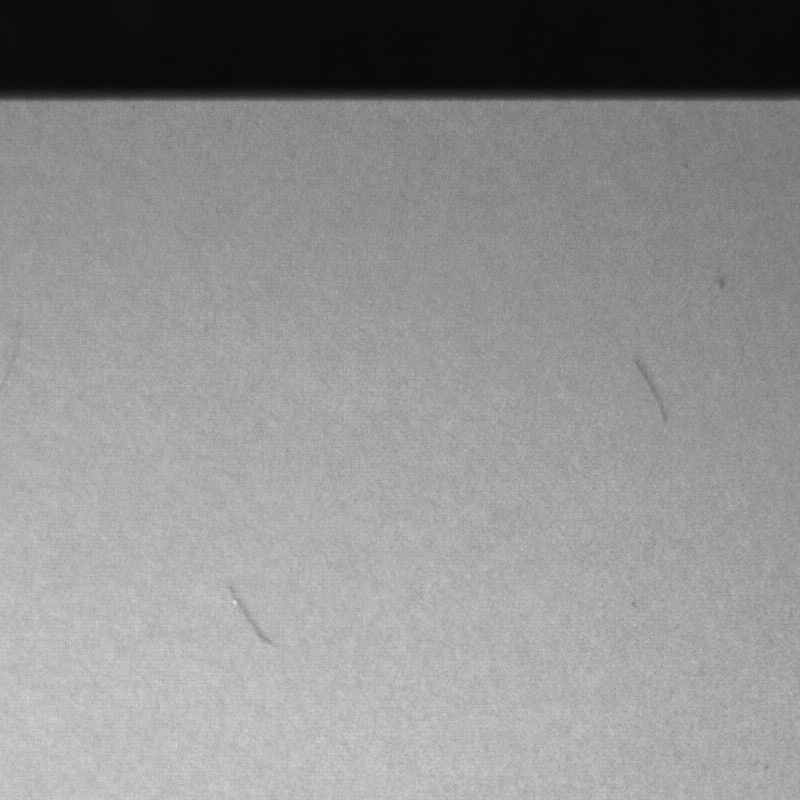defect: (225, 589, 278, 652), (631, 361, 670, 425), (715, 274, 735, 295)
